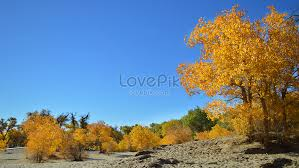forest: (7, 114, 255, 142)
sky: (2, 2, 181, 112)
tree: (189, 2, 296, 143), (23, 113, 64, 159), (59, 116, 100, 162)
